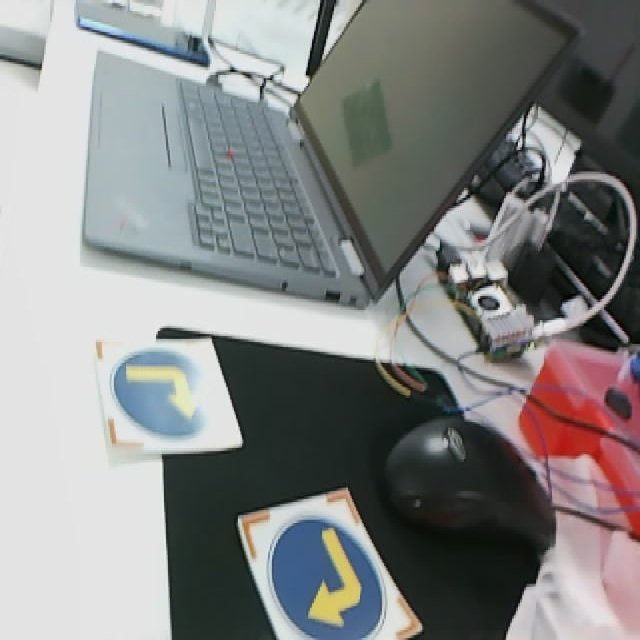right: (241, 486, 423, 638), (96, 337, 243, 455)
